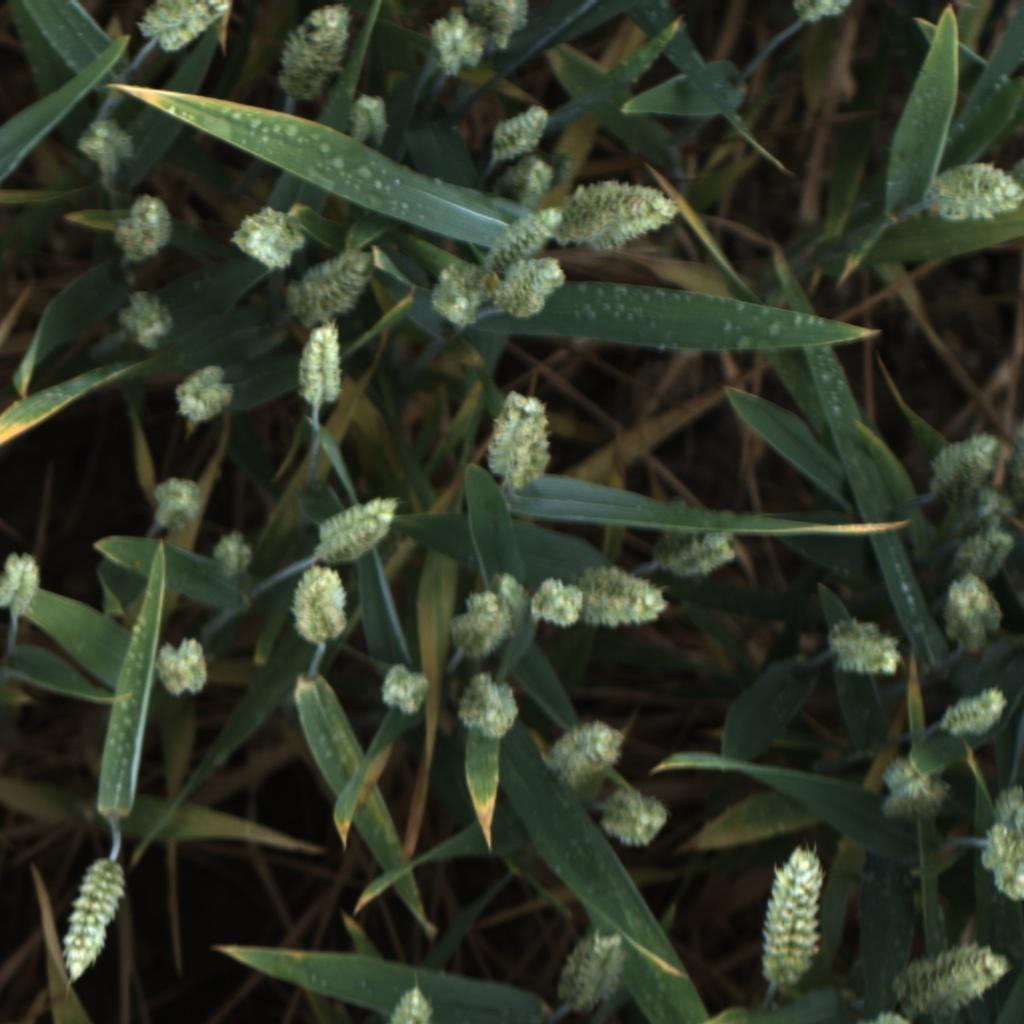0-0: (753, 837, 827, 996), (53, 854, 131, 982), (897, 939, 1013, 1021), (477, 393, 557, 496), (276, 5, 358, 105), (547, 927, 636, 1018), (445, 569, 527, 662), (573, 182, 686, 249), (310, 493, 410, 567), (295, 246, 375, 327), (924, 158, 1021, 224), (940, 563, 1009, 654), (580, 564, 669, 632), (823, 614, 916, 679), (922, 428, 999, 504), (549, 716, 629, 789), (141, 1, 235, 61), (288, 563, 352, 651), (935, 478, 1020, 542), (490, 203, 567, 273), (941, 520, 1022, 585), (495, 253, 571, 322), (450, 675, 526, 743), (874, 759, 951, 826), (492, 151, 567, 216), (229, 208, 305, 272), (298, 318, 349, 410), (938, 678, 1010, 742), (603, 783, 676, 846), (427, 260, 491, 331), (71, 115, 142, 179), (114, 189, 175, 262), (171, 357, 236, 425), (524, 569, 588, 636), (663, 527, 738, 583), (430, 13, 491, 81), (977, 819, 1024, 907), (467, 0, 548, 51), (151, 637, 215, 701), (487, 100, 552, 162), (115, 286, 177, 350), (147, 477, 207, 535), (378, 656, 432, 718), (0, 546, 44, 622), (376, 984, 452, 1024), (345, 91, 393, 153), (209, 530, 258, 584)
